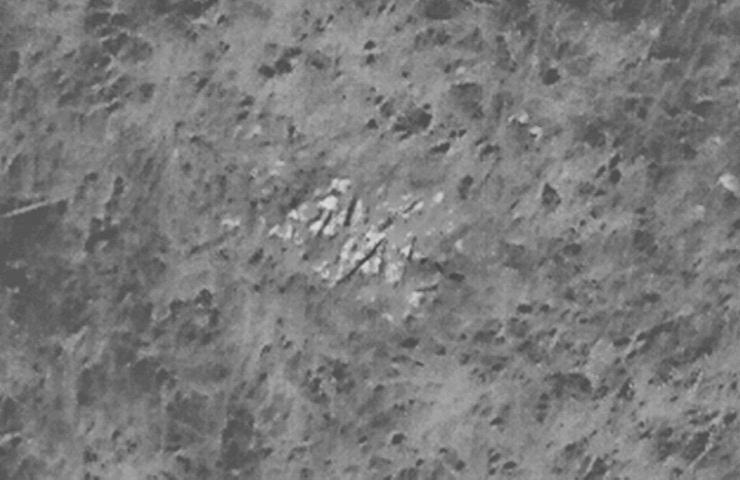landmines: (278, 174, 462, 310)
